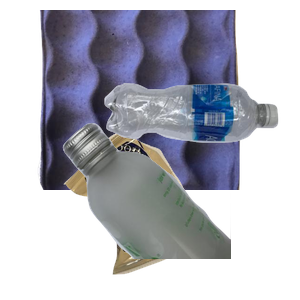glass: (60, 120, 300, 300)
paper: (35, 10, 268, 190)
plastic: (102, 81, 300, 216)
trash: (61, 127, 260, 300)
